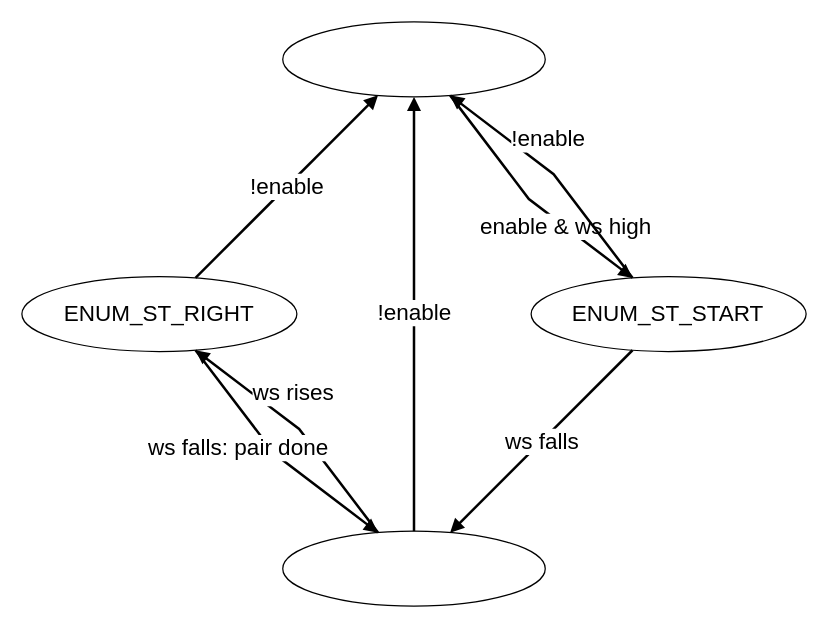
This 829x629 diagram has some shape labels left out. Here are the shapes that lost their labels. From the top down, the centre of each, then its label:
the point at 413,59: ENUM_ST_IDLE
the point at 413,568: ENUM_ST_LEFT
